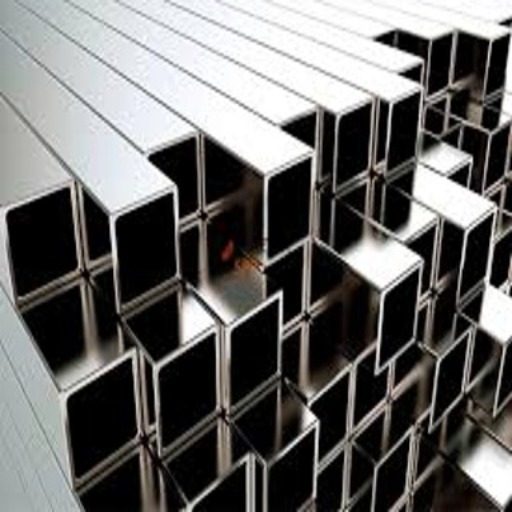Square: (68, 359, 133, 471), (8, 191, 75, 295), (118, 196, 175, 300), (161, 334, 215, 442), (232, 303, 278, 399), (269, 160, 310, 251), (269, 433, 314, 510), (380, 272, 416, 360), (158, 141, 196, 215), (435, 336, 467, 422), (267, 247, 302, 319), (376, 436, 410, 510), (314, 376, 347, 452), (338, 104, 369, 184), (355, 351, 386, 424), (389, 92, 419, 166), (463, 222, 490, 294), (200, 466, 244, 510), (410, 233, 434, 292), (318, 454, 341, 511), (487, 127, 508, 182), (489, 38, 508, 91), (431, 37, 450, 88), (491, 235, 510, 284), (499, 343, 511, 404), (288, 116, 315, 143), (452, 167, 468, 183), (445, 128, 459, 146), (404, 67, 420, 79), (379, 33, 392, 43), (401, 505, 404, 511)
